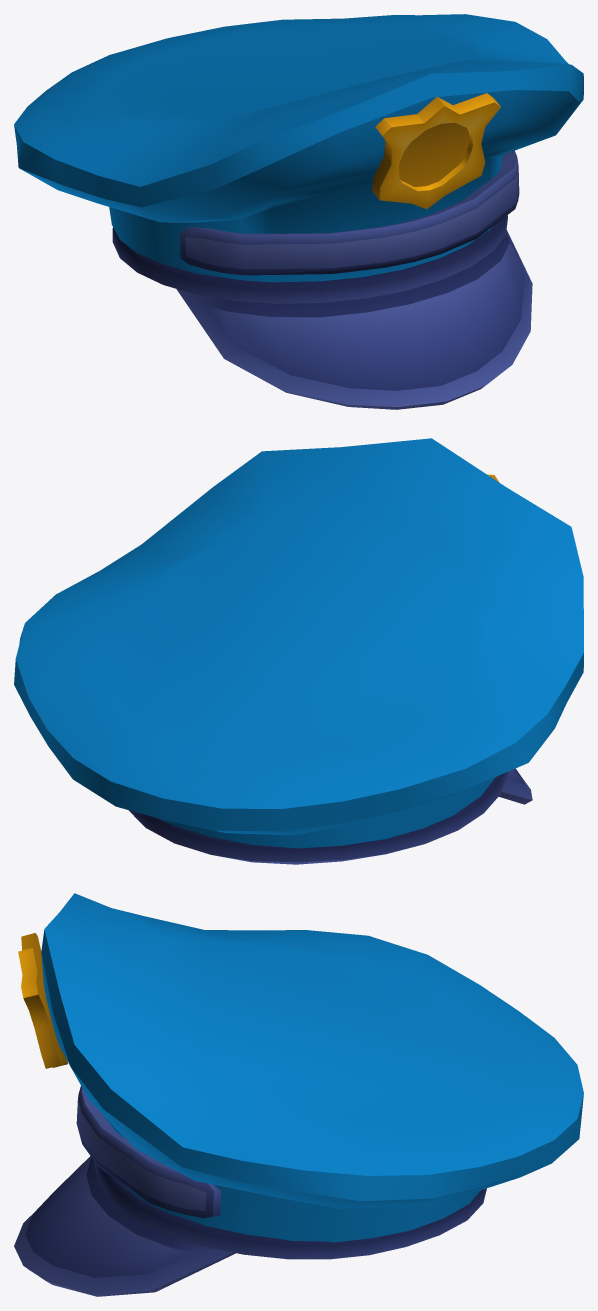
File: Helmet_Cop.fbx
3 renders of one model, top to bottom at view 1: azimuth 30°, elevation 25°; view 2: azimuth 150°, elevation 25°; view 3: azimuth 270°, elevation 25°, orthographic.
Parts seen in each view (by area): view 1: Police_Hat.004; view 2: Police_Hat.004; view 3: Police_Hat.004.
Boxes of the visible parts, x1,y1,x2,y2 form: Police_Hat.004: (14, 14, 583, 409); Police_Hat.004: (14, 438, 583, 864); Police_Hat.004: (14, 893, 583, 1296).
Size of the model in its own units: 53.92 by 32.58 by 52.13.
Materials: 2 (1 with a texture image).
